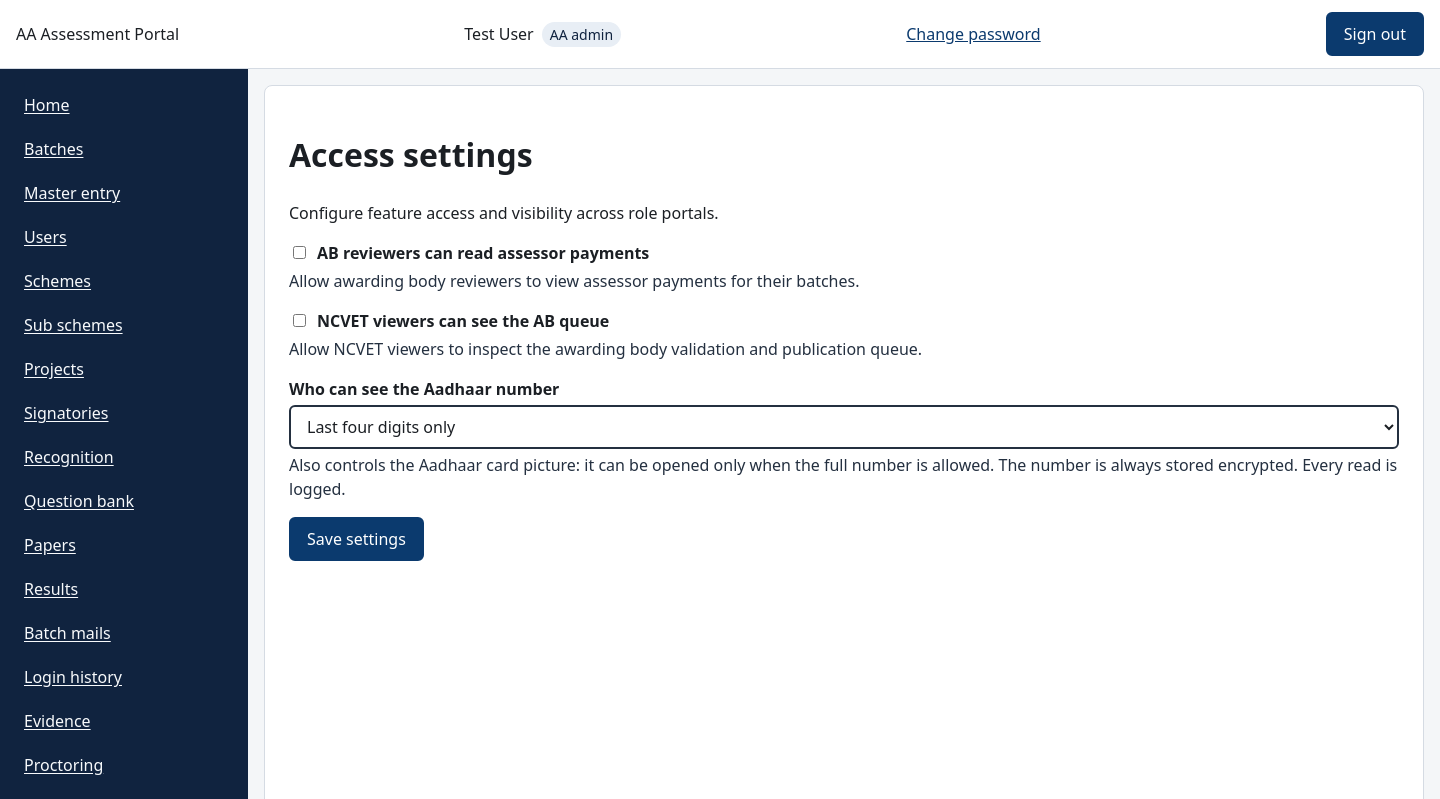
shows server error in plain words when save fails and restores toggles
Click the checkbox labelled "AB reviewers can read assessor payments" at (300, 253), box [293,246,306,259]
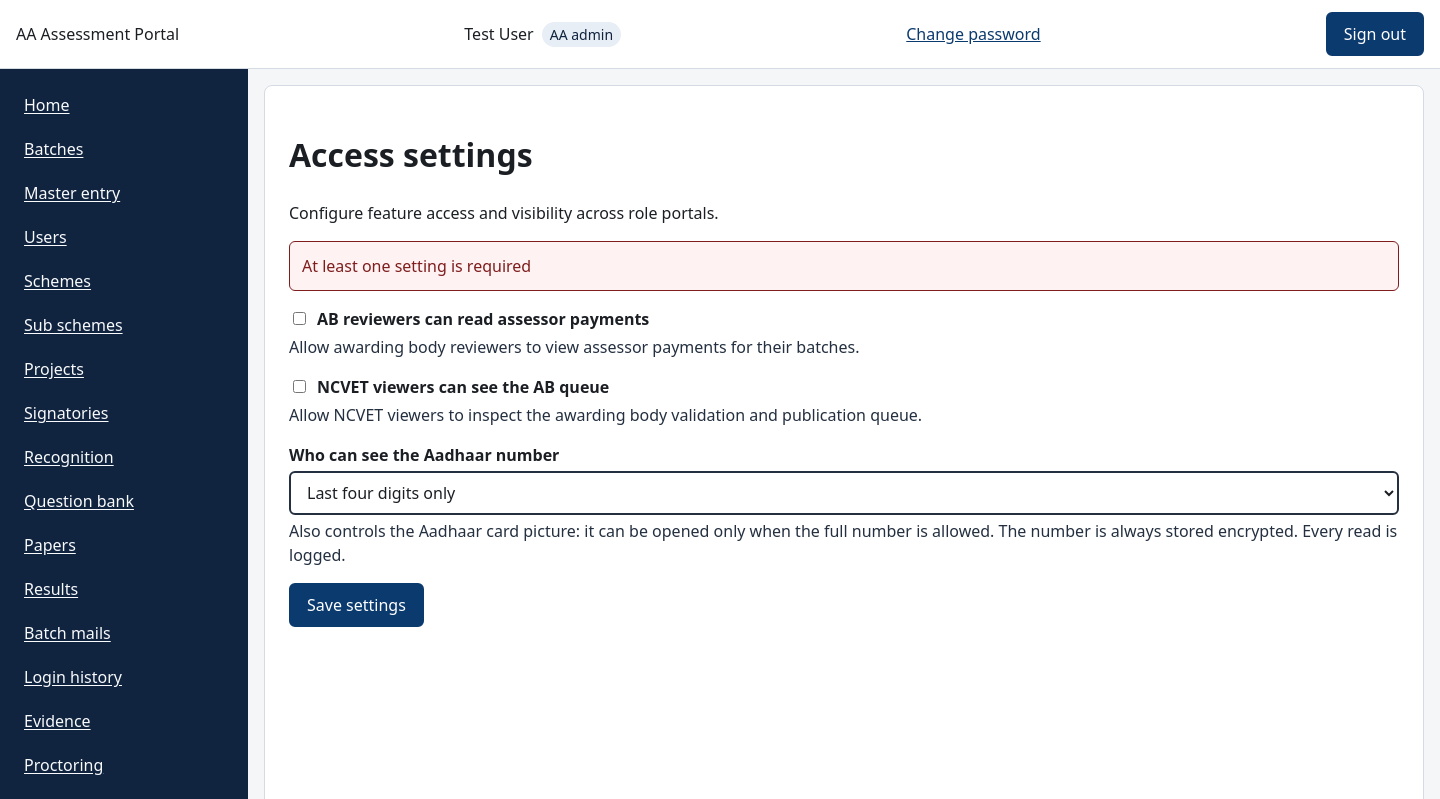
Expected: the checkbox labelled "AB reviewers can read assessor payments" is not checked, [293,312,306,325]
Expected: the message reads "At least one setting is required", [302,255,531,277]
